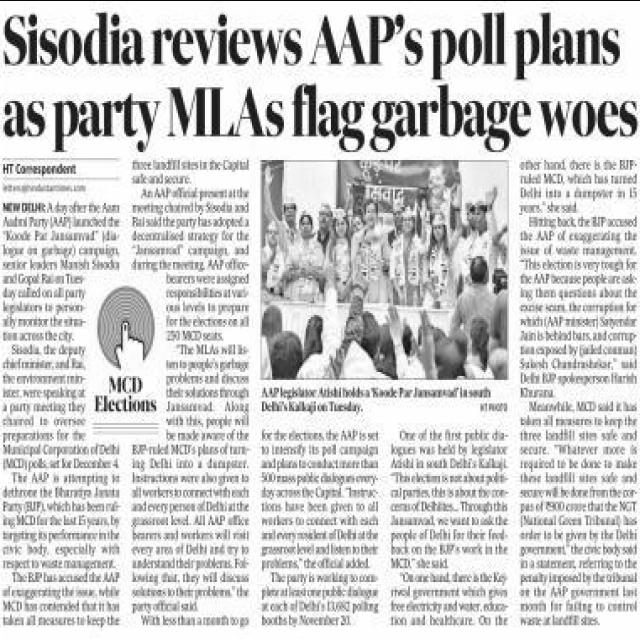paper: (0, 1, 640, 639)
